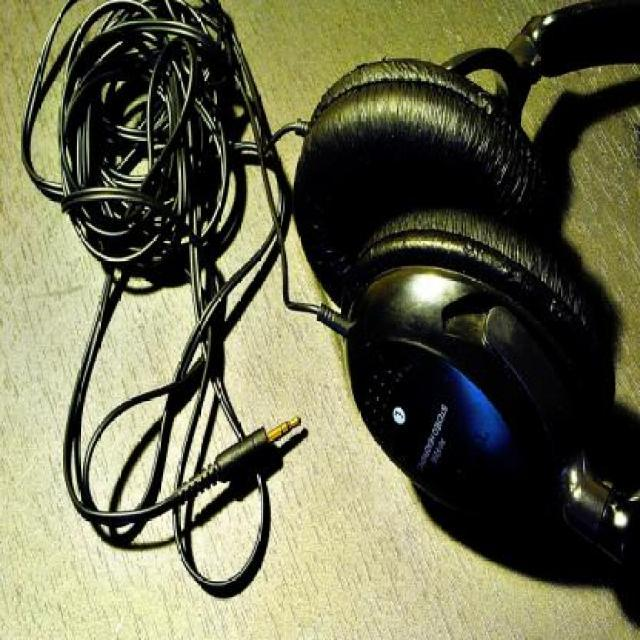earphone: (300, 0, 637, 595)
